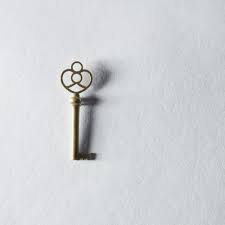key: (57, 61, 105, 163)
